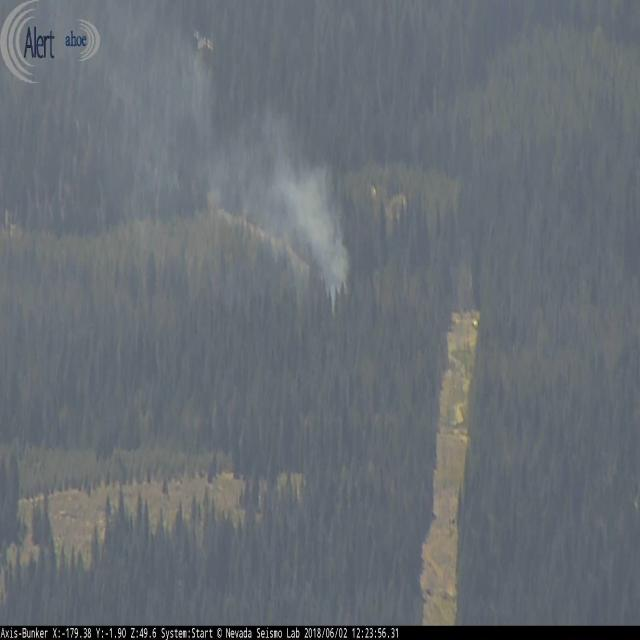smoke: (210, 100, 353, 314)
